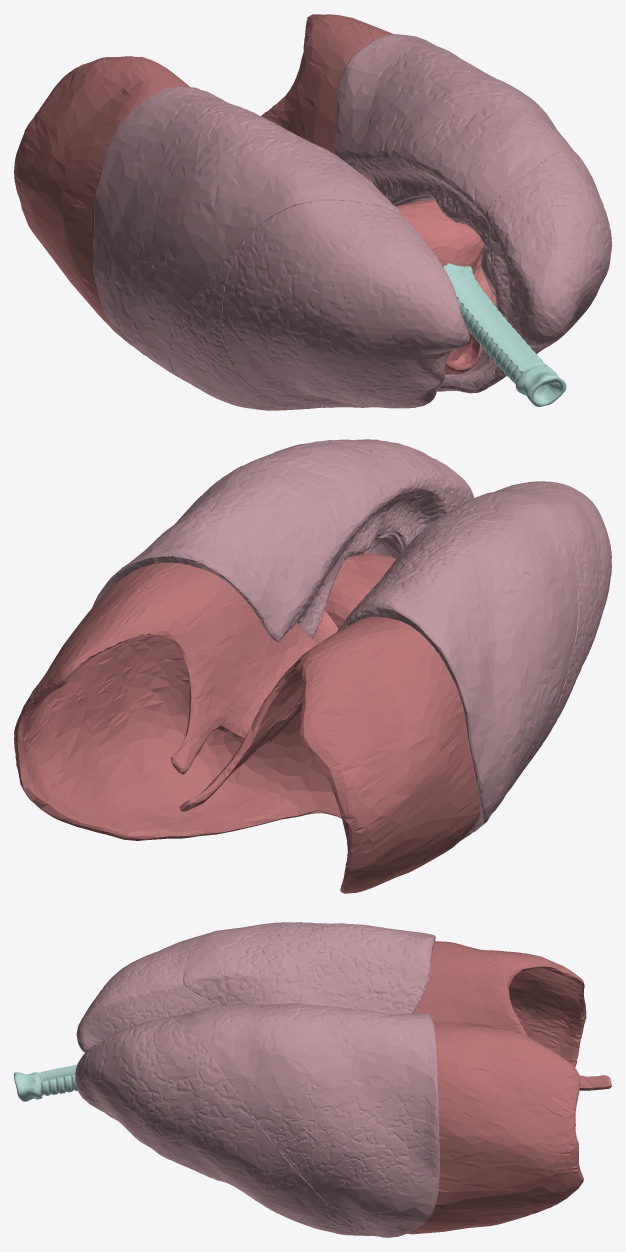
File: thorax.glb
The picture shows the model from 3 angles, top to bottom: view 1: azimuth 30°, elevation 25°; view 2: azimuth 150°, elevation 25°; view 3: azimuth 270°, elevation 25°; orthographic projection. The views are drawn at different scales.
Visible parts, largest first — view 1: lung-up-r, lung-low-r, lung-low-l, diaphragm, lung-up-l, lung-mid-r, trachea, coeur; view 2: diaphragm, lung-low-r, lung-low-l, lung-up-l, lung-up-r, coeur, lung-mid-r; view 3: lung-low-l, diaphragm, lung-up-l, lung-low-r, lung-up-r, trachea.
Boxes of the visible parts, box(x1,y1,x2,y2) form: lung-up-r: box(222, 200, 469, 408); lung-low-r: box(93, 86, 399, 377); lung-low-l: box(334, 34, 573, 222); diaphragm: box(14, 14, 393, 345); lung-up-l: box(437, 149, 611, 393); lung-mid-r: box(170, 240, 333, 410); trachea: box(443, 263, 566, 406); coeur: box(396, 199, 496, 374); diaphragm: box(14, 562, 480, 893); lung-low-r: box(336, 490, 578, 840); lung-low-l: box(92, 441, 413, 642); lung-up-l: box(312, 439, 473, 558); lung-up-r: box(494, 481, 611, 678); coeur: box(313, 553, 396, 643); lung-mid-r: box(507, 570, 584, 792); lung-low-l: box(170, 1003, 440, 1237); diaphragm: box(407, 941, 611, 1234); lung-up-l: box(75, 1017, 360, 1235); lung-low-r: box(183, 922, 435, 1013); lung-up-r: box(76, 935, 218, 1052); trachea: box(14, 1064, 77, 1101).
Bounding box in the file's own units: 1.19 × 0.8538 × 2.
